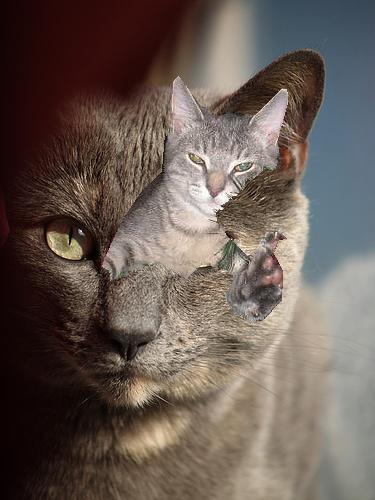tampered: (103, 77, 288, 321)
